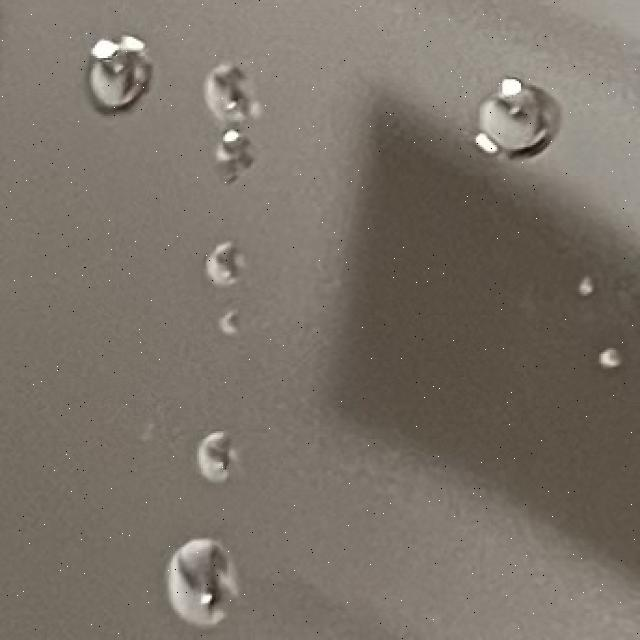raindrop: (464, 78, 570, 167), (160, 540, 244, 628), (80, 24, 146, 116), (200, 46, 264, 126), (184, 422, 240, 492), (205, 133, 260, 190), (199, 247, 247, 296), (593, 329, 626, 385), (567, 276, 604, 304), (214, 309, 244, 338)
